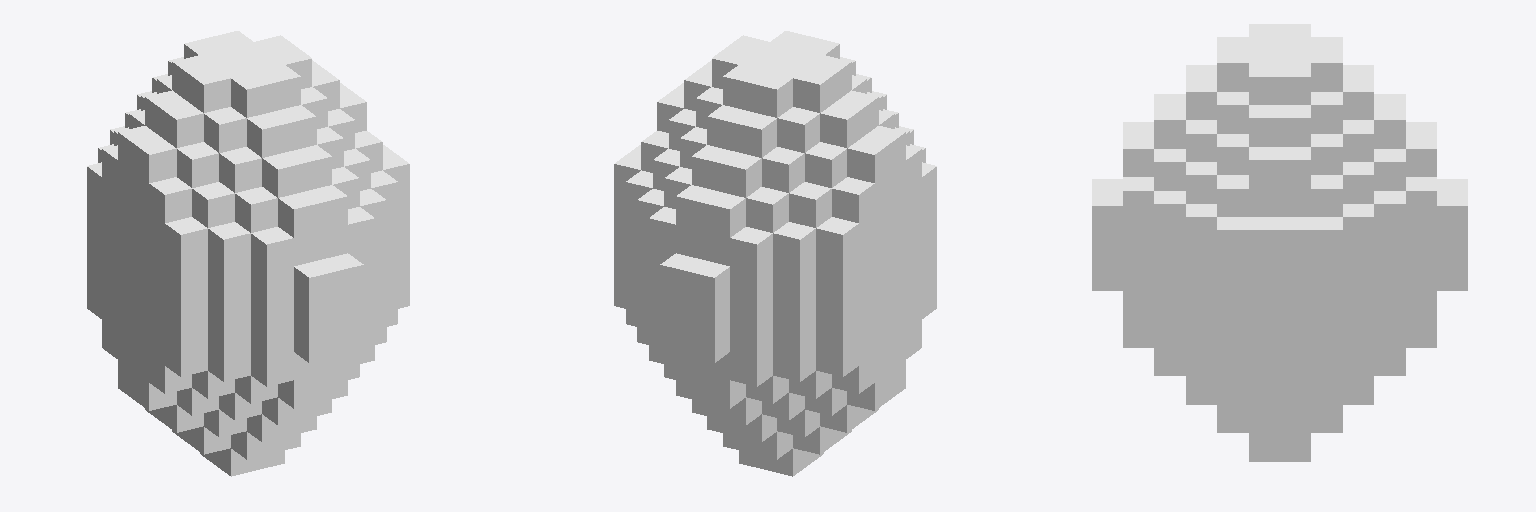
Rendered from bombeman-8-body.obj.
3 views of the same model, side by side, from view 1: azimuth 30°, elevation 25°; view 2: azimuth 150°, elevation 25°; view 3: azimuth 270°, elevation 25° (orthographic).
Parts seen in each view (by area): view 1: body; view 2: body; view 3: body.
Boxes of the visible parts, x1,y1,x2,y2 form: body: [87, 31, 409, 476]; body: [614, 31, 936, 476]; body: [1092, 24, 1467, 461].
Size of the model in its own units: 0.9 by 1.4 by 1.2.